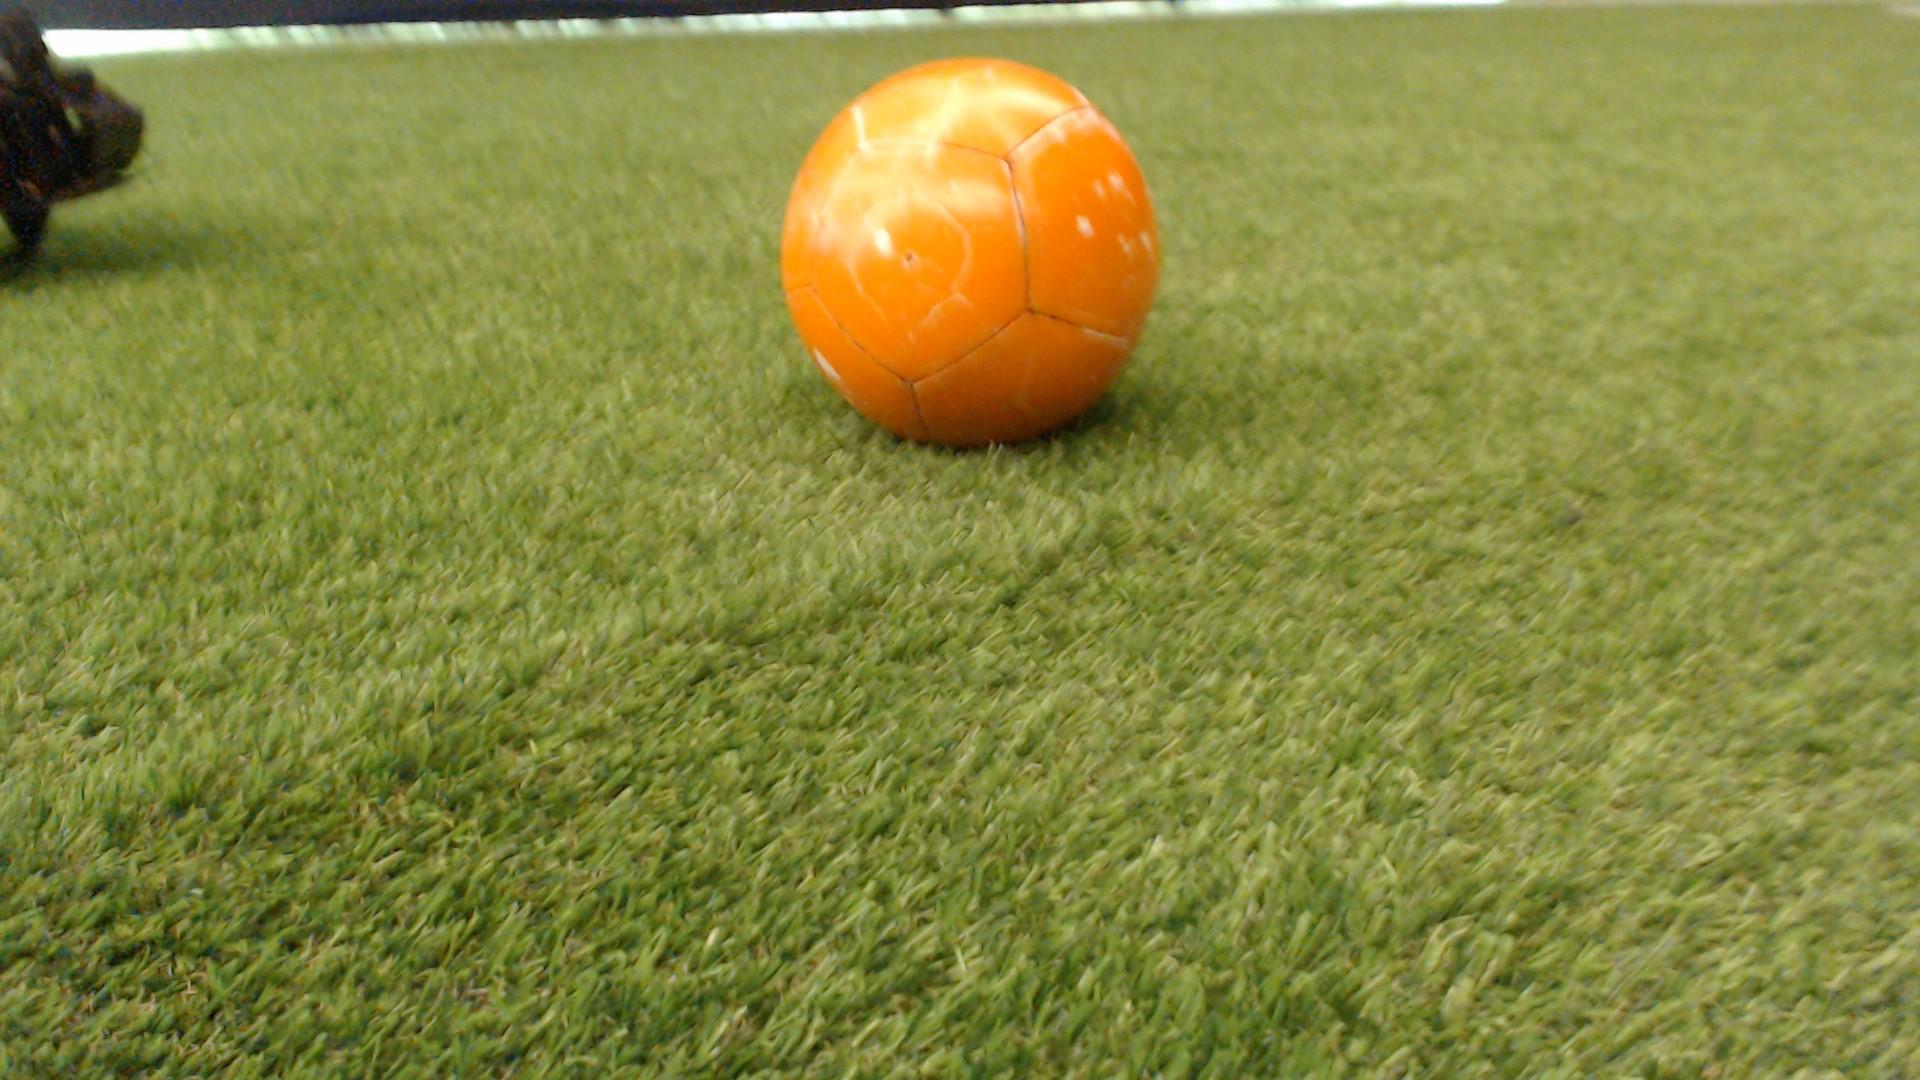bola: (767, 46, 1187, 458)
